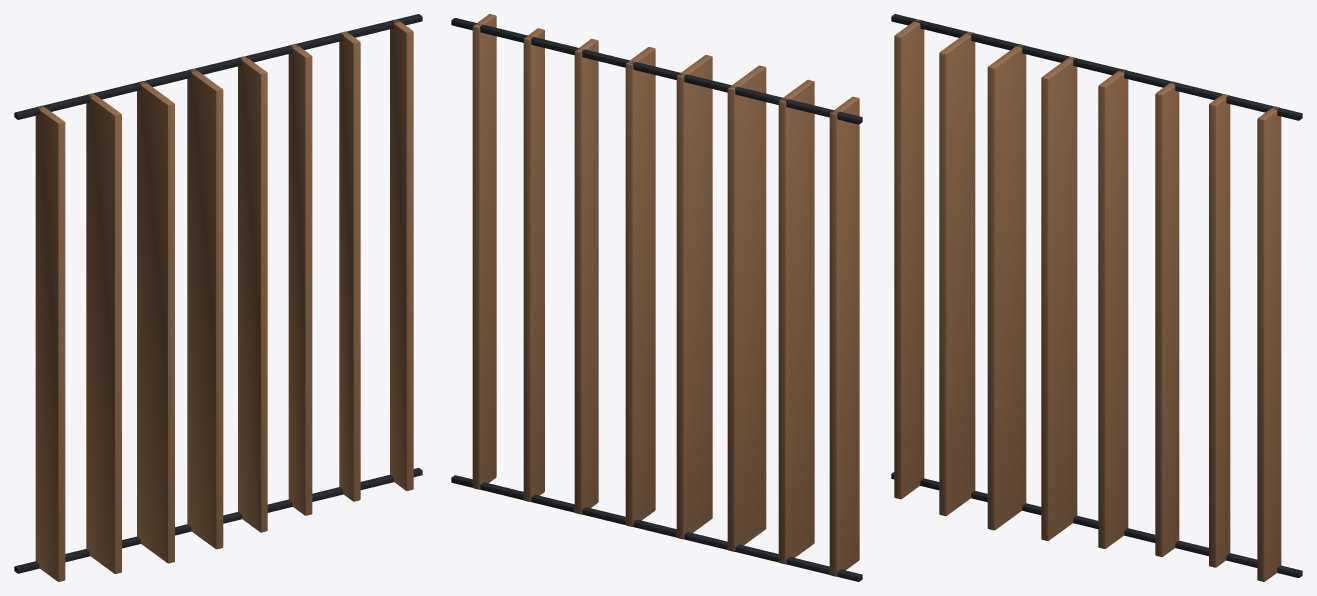
The model's file is sc-ext-fins.glb.
3 renders of one model, left to right at view 1: azimuth 30°, elevation 25°; view 2: azimuth 150°, elevation 25°; view 3: azimuth 330°, elevation 25°, orthographic.
Parts seen in each view (by area): view 1: sc-ext-fins; view 2: sc-ext-fins; view 3: sc-ext-fins.
Part boxes in pixels (bbox=[...]): sc-ext-fins: bbox=[14, 14, 422, 581]; sc-ext-fins: bbox=[451, 14, 862, 581]; sc-ext-fins: bbox=[891, 14, 1302, 581].
Size of the model in its own units: 4.8 by 5.2 by 0.65.
